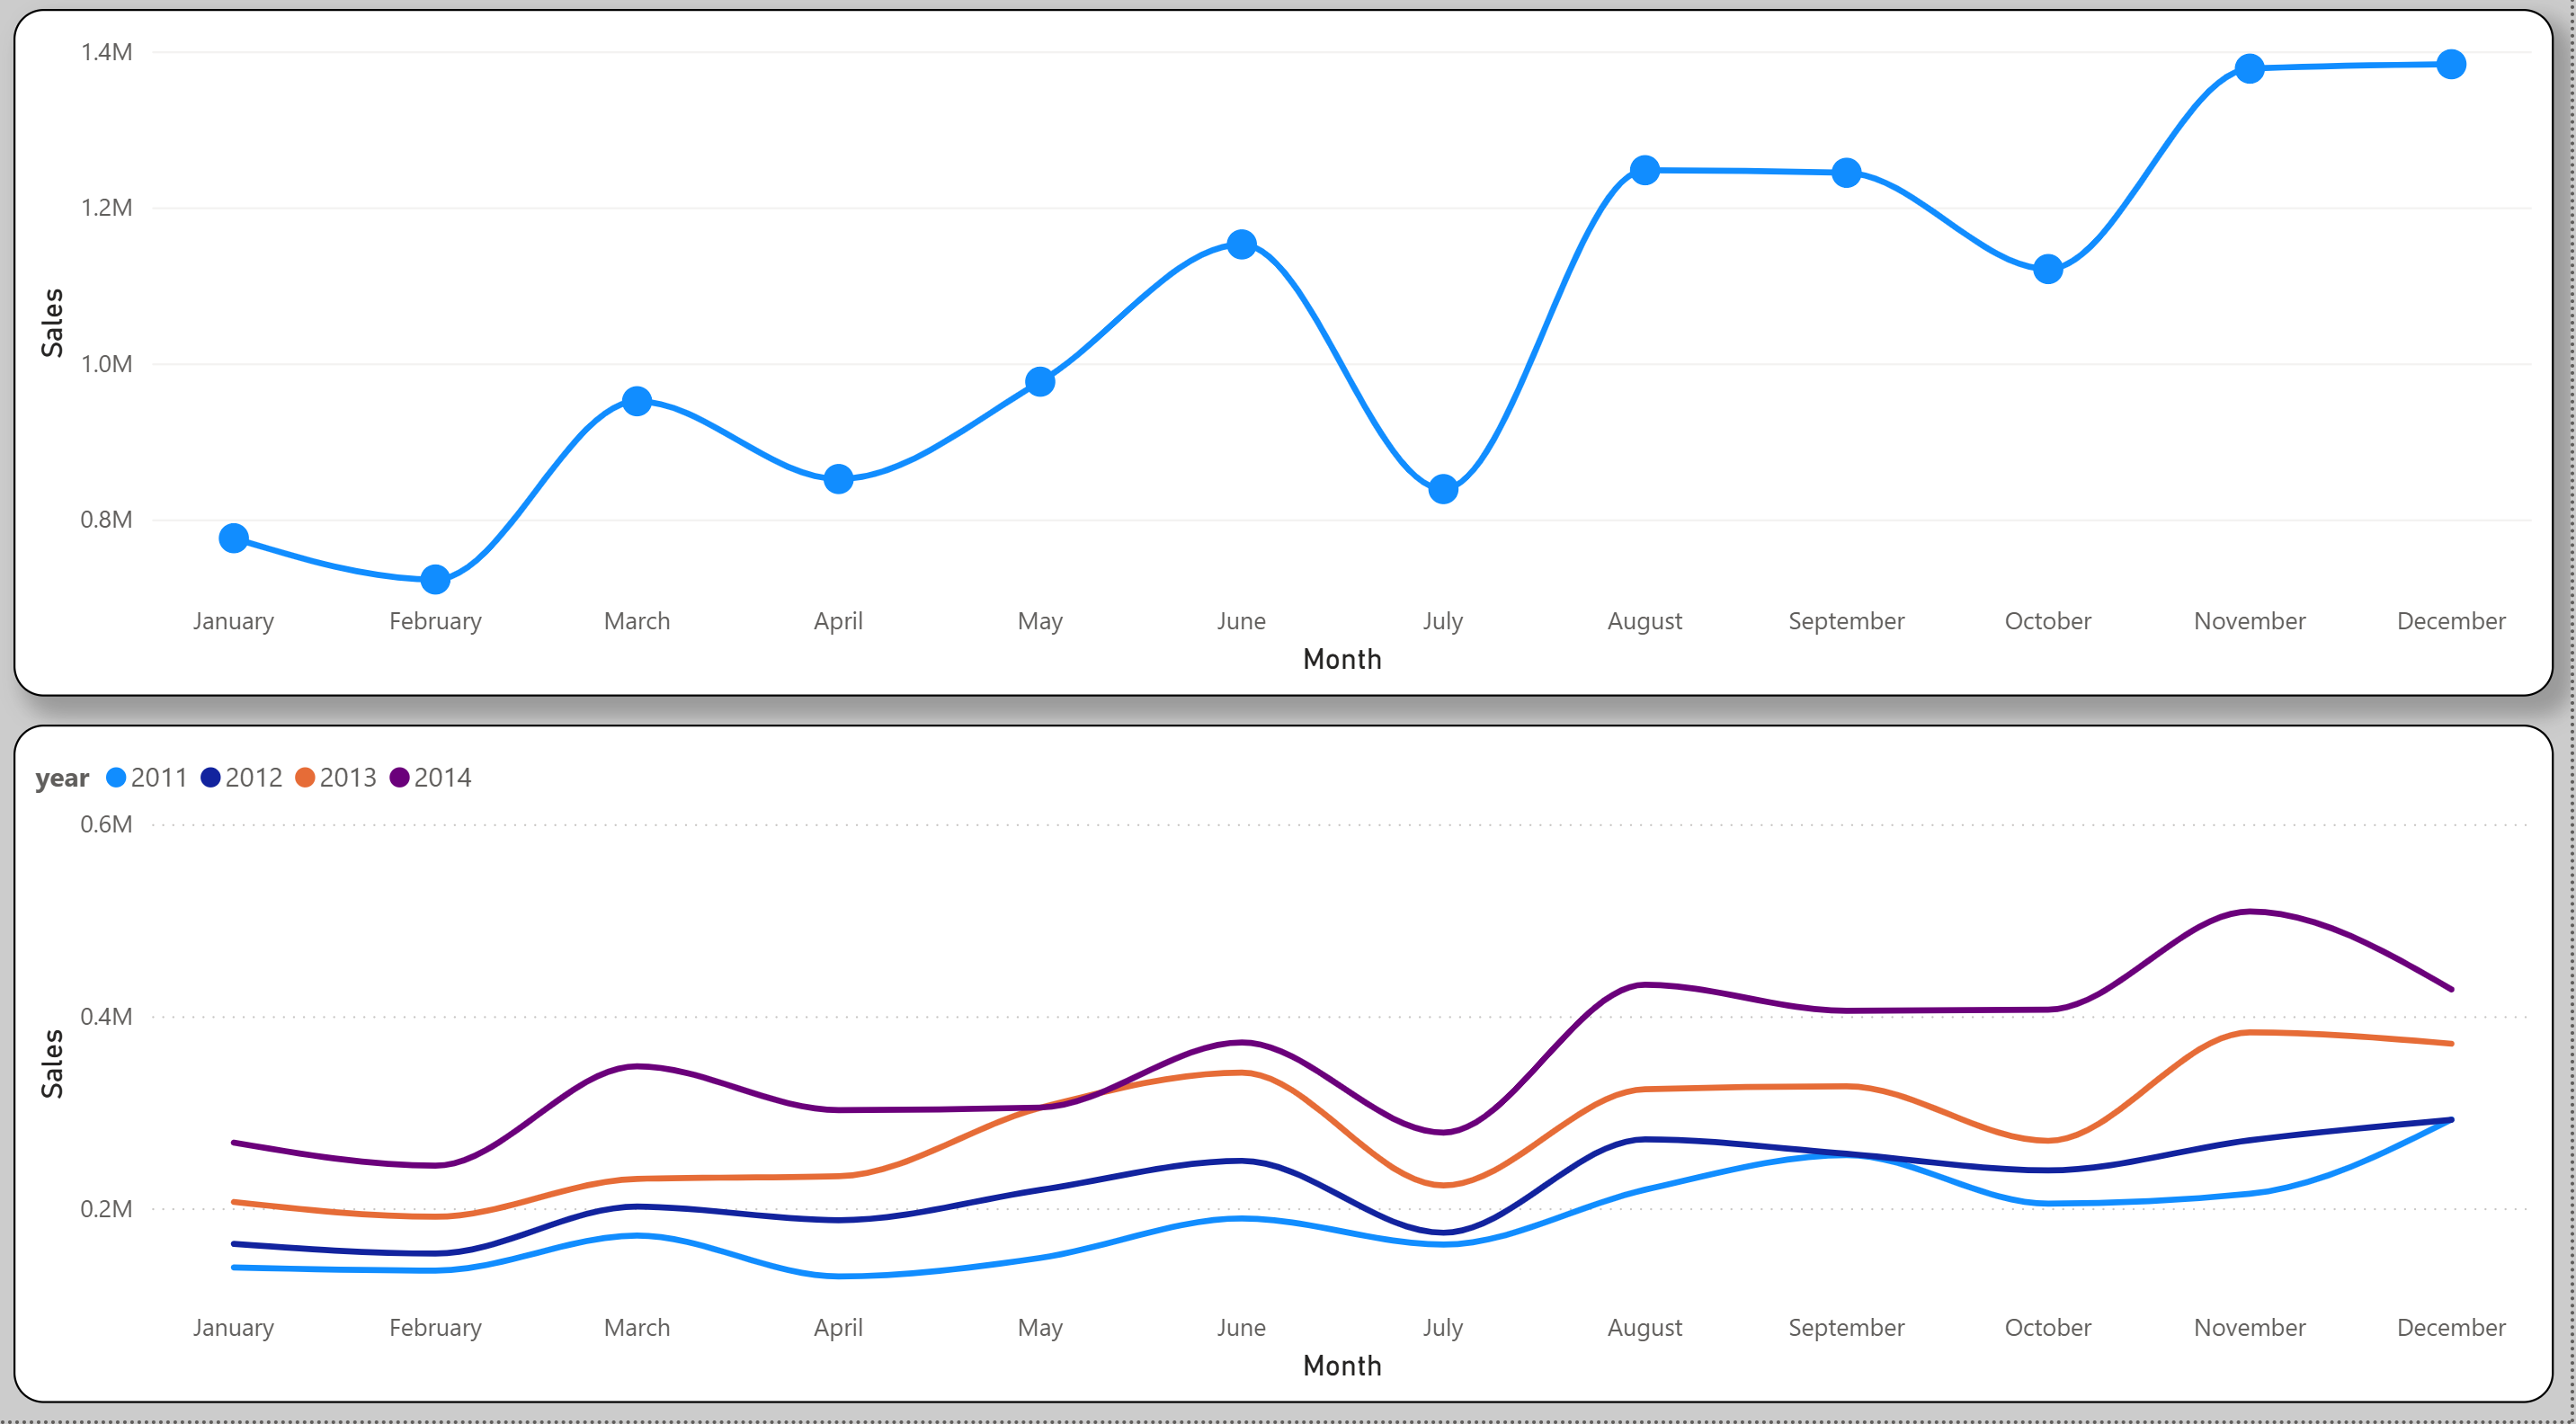

Layout of this report page (visuals, bound fields, positions):
{"tool":"powerbi","page":{"name":"Time Analysis","canvas":[1280,720],"ordinal":3},"visuals":[{"type":"lineChart","fields":{"Y":["Sum(SuperStoreOrders - SuperStoreOr.sales)"],"Category":["SuperStoreOrders - SuperStoreOr.order_date.Variation.Date Hierarchy.Month"]},"box":[8.1,18.1,1263.7,342.2],"z":0},{"type":"lineChart","fields":{"Series":["SuperStoreOrders - SuperStoreOr.year"],"Y":["Sum(SuperStoreOrders - SuperStoreOr.sales)"],"Category":["SuperStoreOrders - SuperStoreOr.order_date.Variation.Date Hierarchy.Month"]},"box":[8.1,373.9,1263.7,337.7],"z":1}]}

Visuals, with their boxes in screenshot pixels (x1, y1, x2, y2), scaled from the page's 1280x720 canvas onto the 2576x1424 screenshot:
lineChart - Sum(SuperStoreOrders - SuperStoreOr.sales) x SuperStoreOrders - SuperStoreOr.order_date.Variation.Date Hierarchy.Month: 16 36 2560 713
lineChart - SuperStoreOrders - SuperStoreOr.year x Sum(SuperStoreOrders - SuperStoreOr.sales): 16 740 2560 1408
